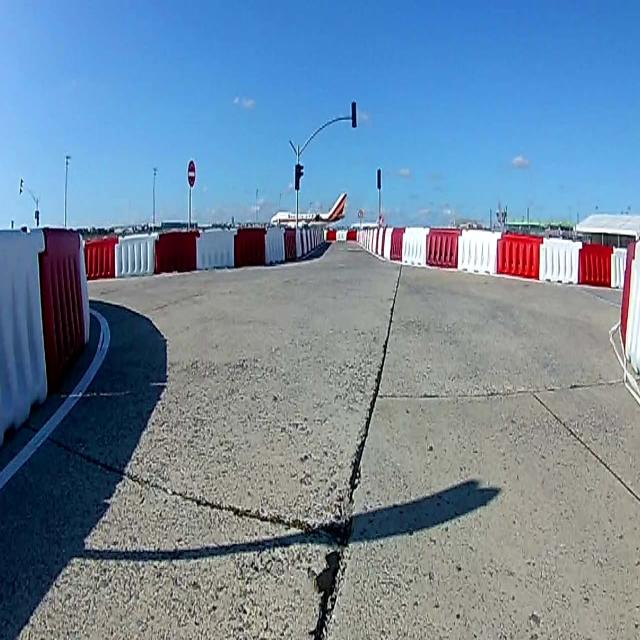girisyok: (188, 160, 196, 187)
